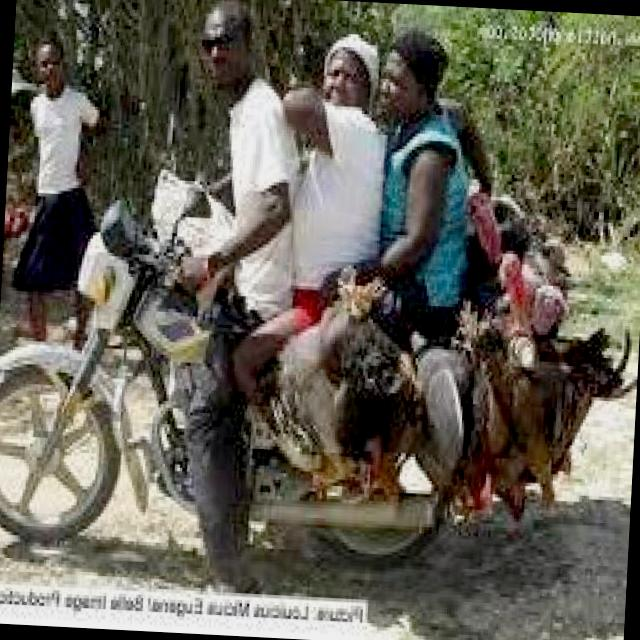motorcycle: (0, 180, 517, 611)
person: (138, 0, 316, 601), (254, 18, 420, 536), (350, 22, 508, 542)
rider_region: (0, 0, 494, 586)
